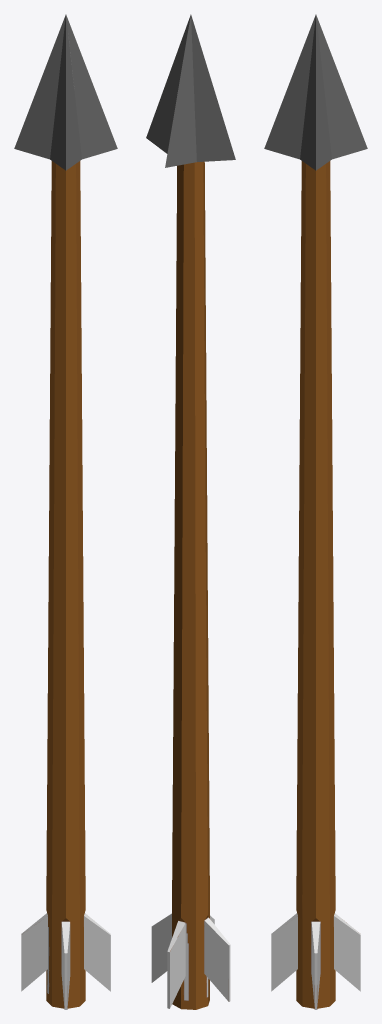
The model's file is Flecha .fbx.
The picture shows the model from 3 angles, left to right: view 1: azimuth 90°, elevation 25°; view 2: azimuth 150°, elevation 25°; view 3: azimuth 270°, elevation 25°; orthographic projection.
Visible parts, largest first — view 1: Flecha; view 2: Flecha; view 3: Flecha.
Boxes of the visible parts, x1,y1,x2,y2 form: Flecha: [14, 14, 117, 1009]; Flecha: [146, 14, 235, 1009]; Flecha: [264, 14, 367, 1009].
Bounding box in the file's own units: 30.67 × 322 × 30.67.
Materials: 1 (1 with a texture image).
